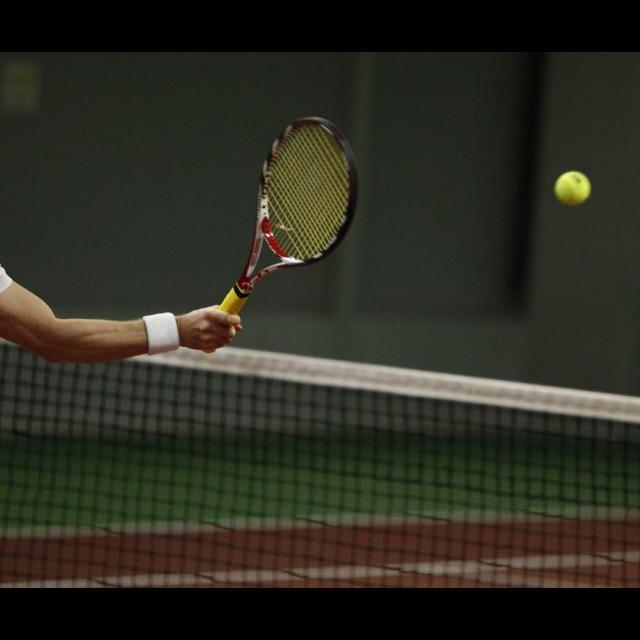tennis-ball: (554, 168, 592, 206)
